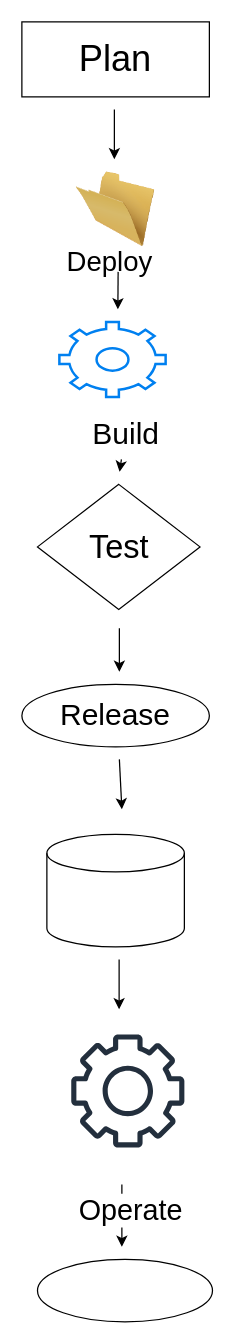
Some shapes in this 235 by 1344 pixel diagram are drawn without their labels. The shapes that lost their labels are listed below. From the top down, each one's centre as x and y in pixels, then its label:
At [115,890]: "Deploy".
At [124,1290]: "Monitor".
